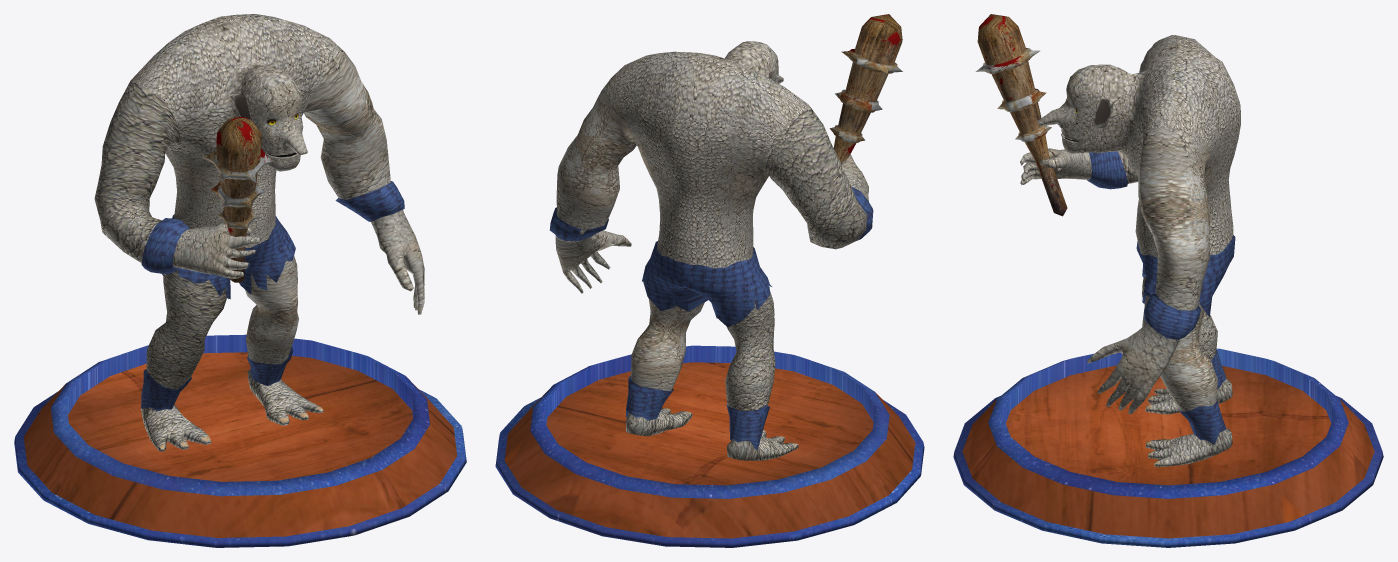
The model's file is troll.obj.
3 views of the same model, side by side, from view 1: azimuth 30°, elevation 25°; view 2: azimuth 150°, elevation 25°; view 3: azimuth 270°, elevation 25° (orthographic). The views are drawn at different scales.
Parts seen in each view (by area): view 1: polySurface5; view 2: polySurface5; view 3: polySurface5.
Part boxes in pixels (x1,y1,x2,y2): polySurface5: (14, 14, 466, 547); polySurface5: (495, 14, 924, 547); polySurface5: (953, 14, 1383, 547).
Bounding box in the file's own units: 7.93 × 8.23 × 7.93.
